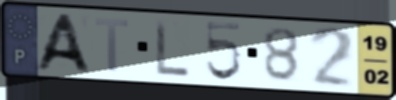2: (307, 25, 357, 90)
5: (203, 19, 244, 83)
8: (260, 26, 304, 84)
A: (30, 12, 95, 75)
L: (153, 18, 193, 78)
T: (92, 16, 132, 75)
